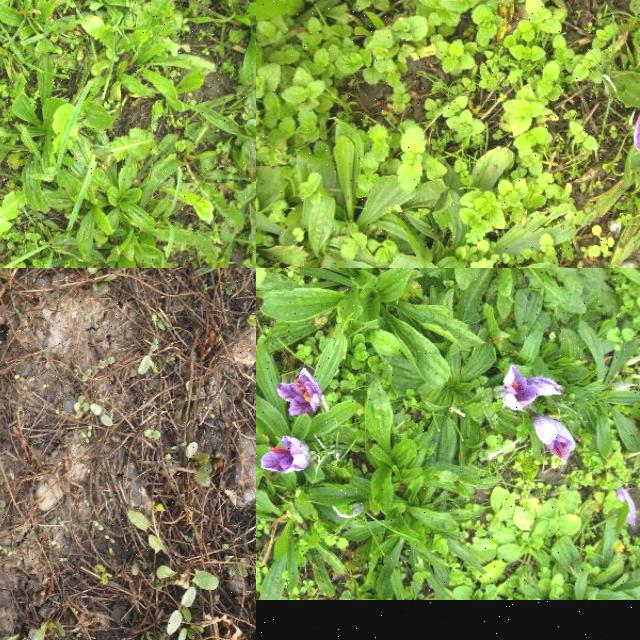flower: (503, 364, 562, 410), (277, 368, 325, 416), (535, 413, 575, 462), (262, 436, 310, 474)
